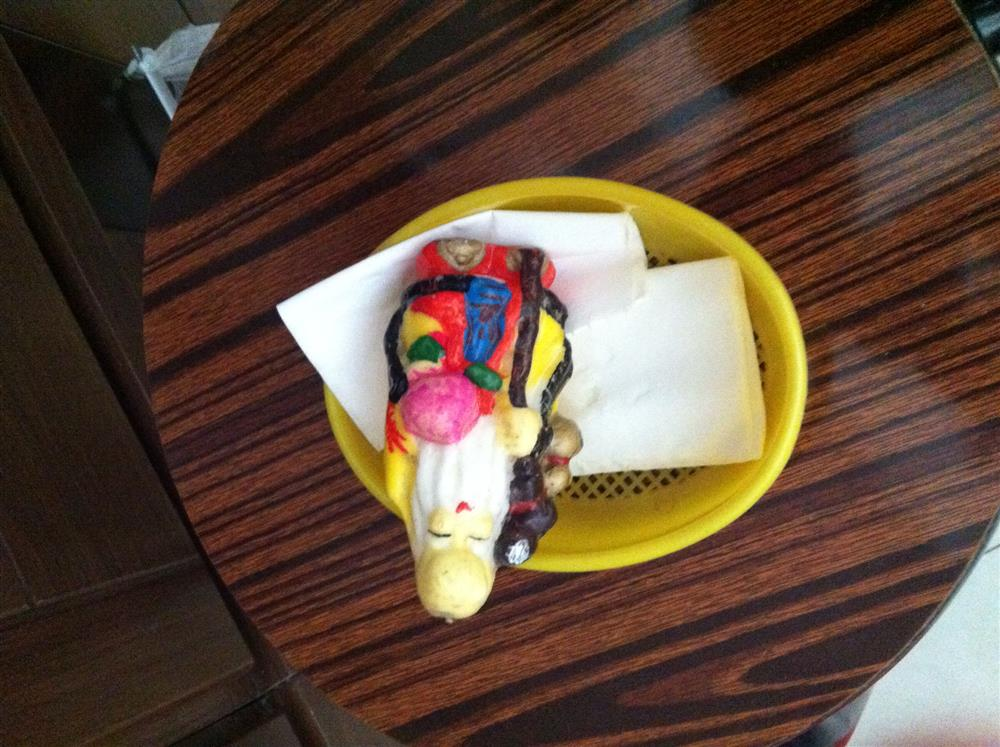oldman_candle: (383, 239, 586, 625)
